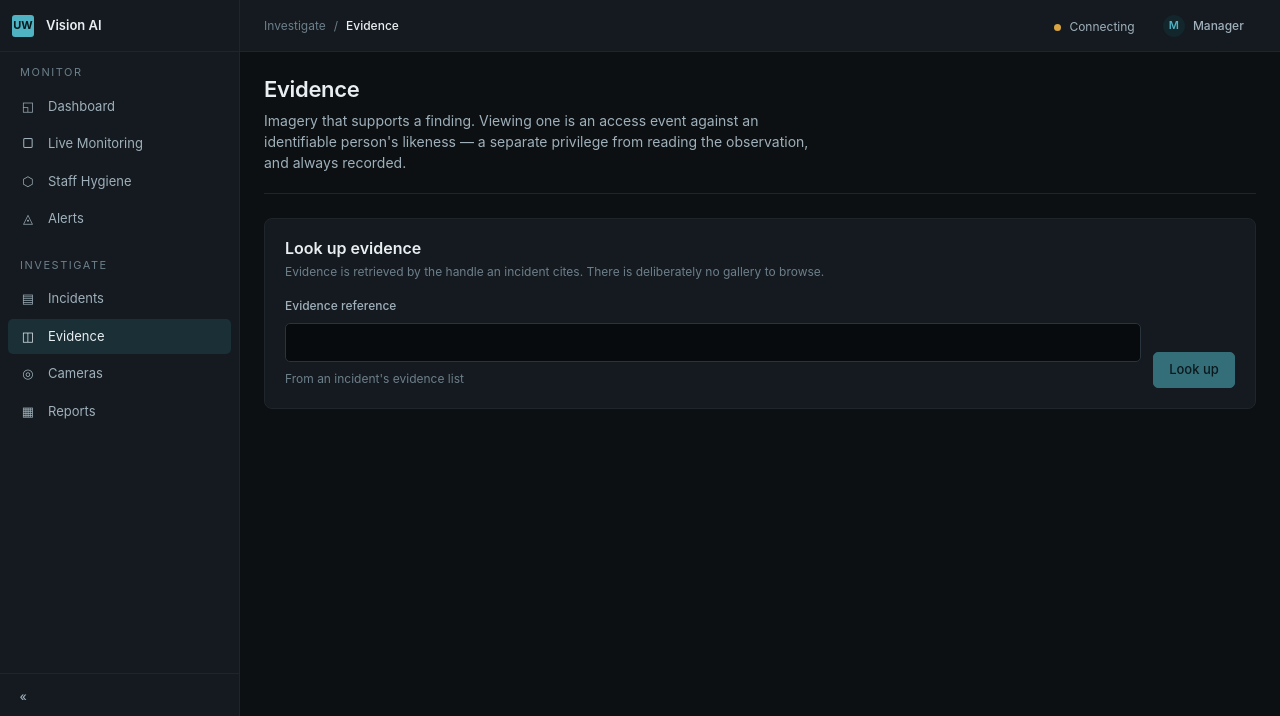
Test: the evidence page › offers erasure only to an account that holds the delete privilege
In the field labelled "Evidence reference": {"x": 713, "y": 342} [285,323,1141,362], type "ev-1"
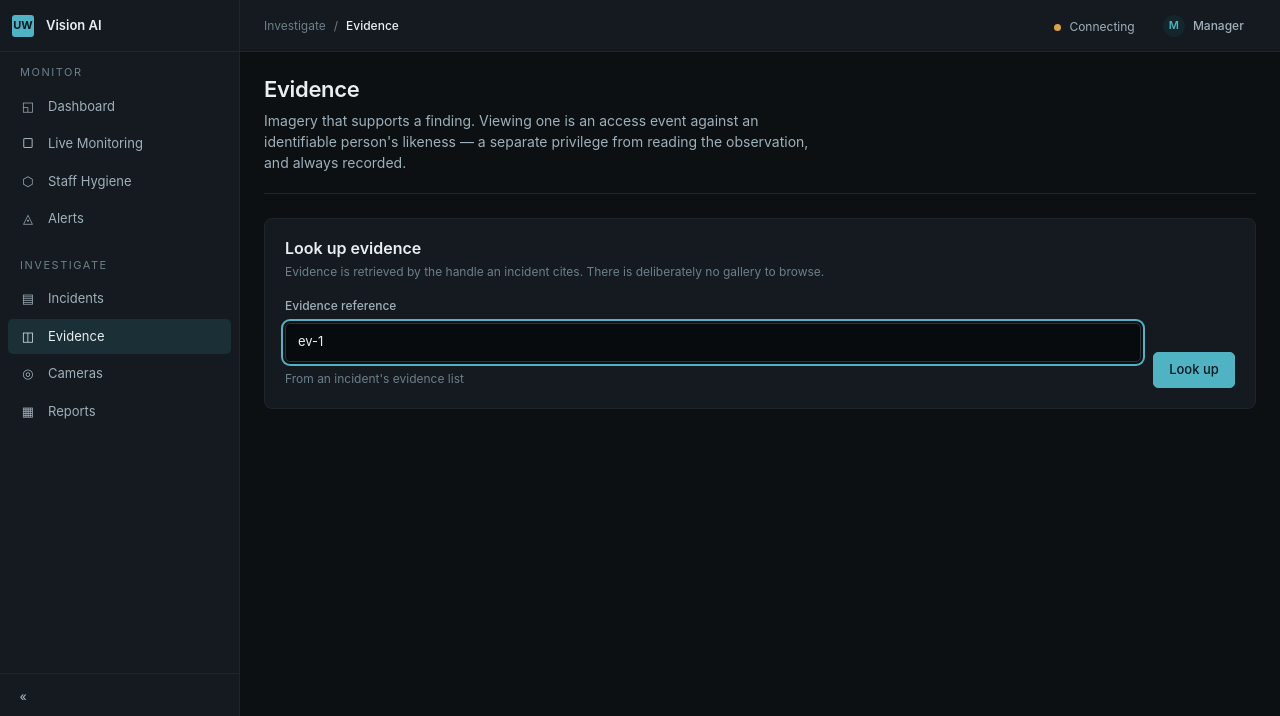
Click the button "Look up": {"x": 1194, "y": 370} [1153,352,1235,388]
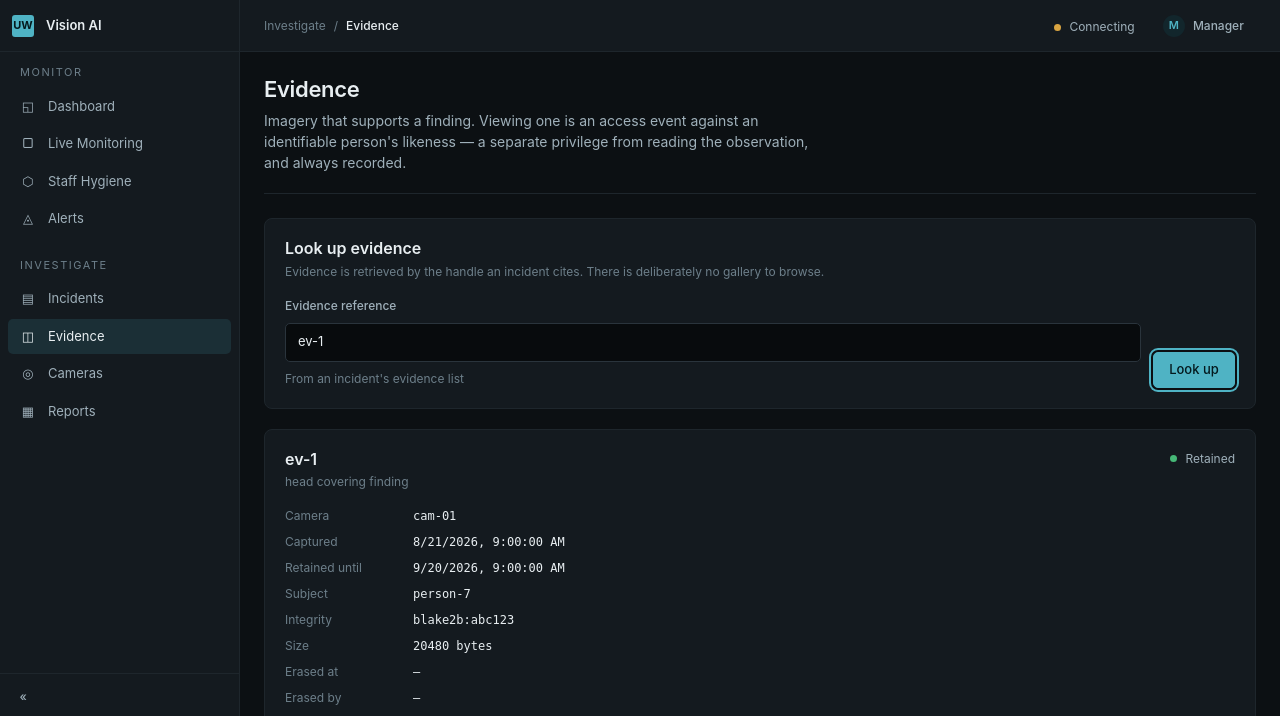
Now the text "Retained" is shown, box [1170,450,1235,468]
